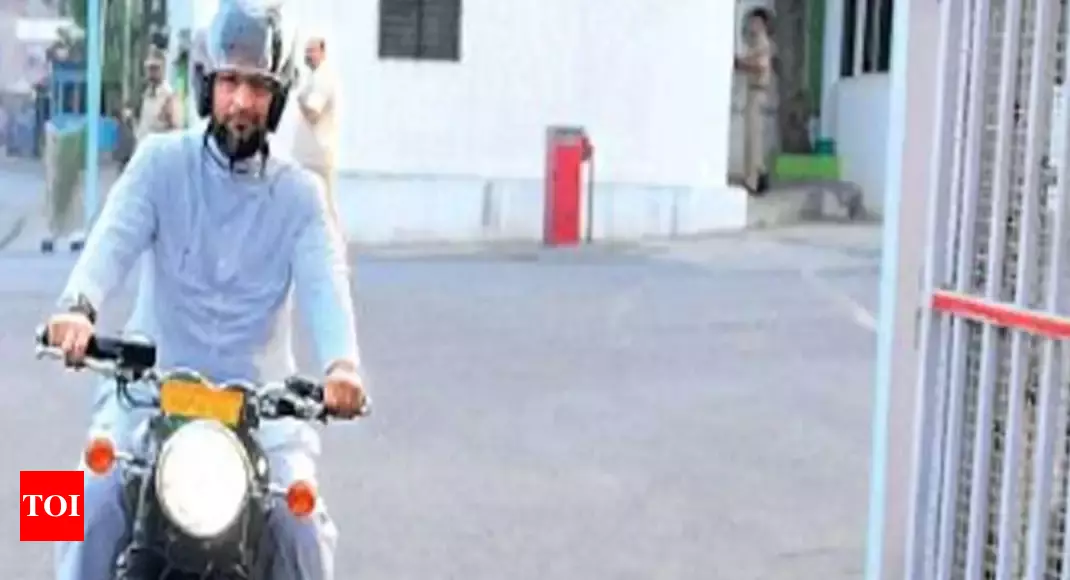helmet: (157, 5, 357, 484)
